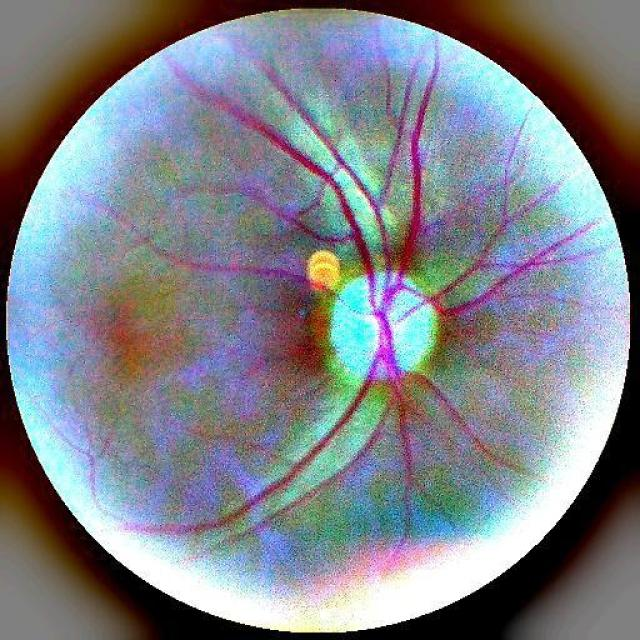Nerves: (370, 294, 402, 379)
Optic Disk: (330, 279, 381, 374), (385, 289, 436, 371)
